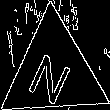N_NE: (27, 39, 79, 103)
